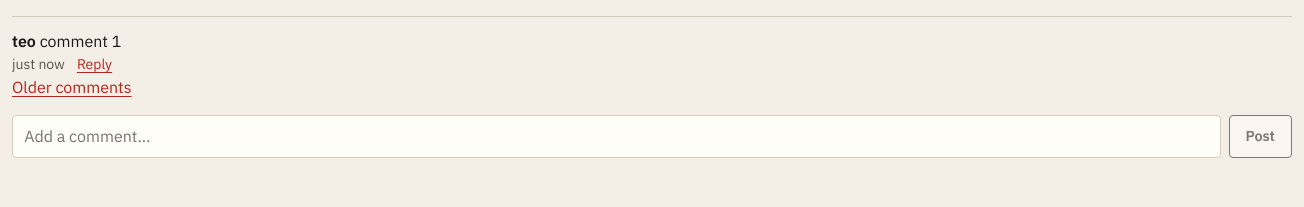
Test: CommentSection › offers older comments when the API has another page
This screenshot has width=1304, height=207.
What coordinates should you click on to do the following:
click the button "Older comments"
I would click on:
 (72, 88)
Its box is [12,76,132,100].
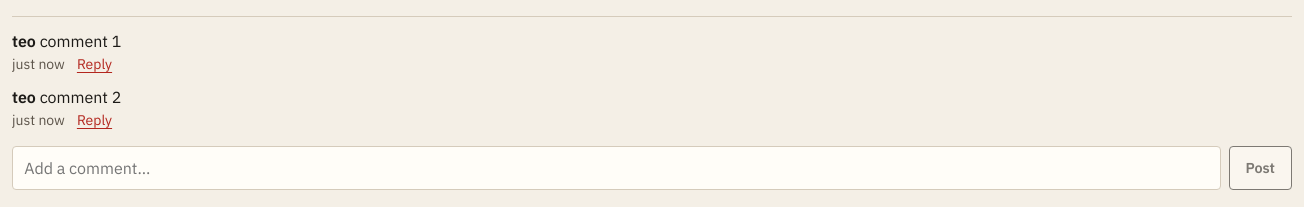
Result: the text "comment 2" is shown at [40,87,121,107]
